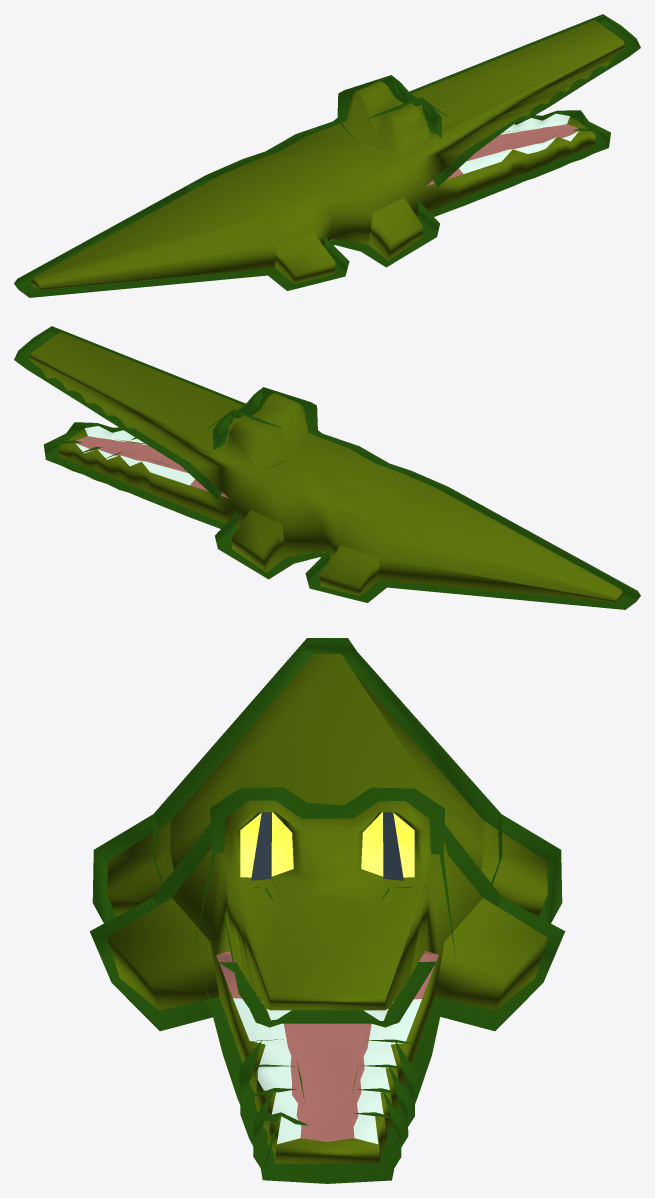
3 views of the same model, one above another, from view 1: azimuth 30°, elevation 25°; view 2: azimuth 150°, elevation 25°; view 3: azimuth 270°, elevation 25° (orthographic). The views are drawn at different scales.
Visible parts, largest first — view 1: Cube; view 2: Cube; view 3: Cube.
Boxes of the visible parts, x1,y1,x2,y2 form: Cube: (14, 14, 640, 297); Cube: (14, 326, 640, 609); Cube: (90, 638, 564, 1183).
Bounding box in the file's own units: 12.94 × 2.7 × 4.42.
